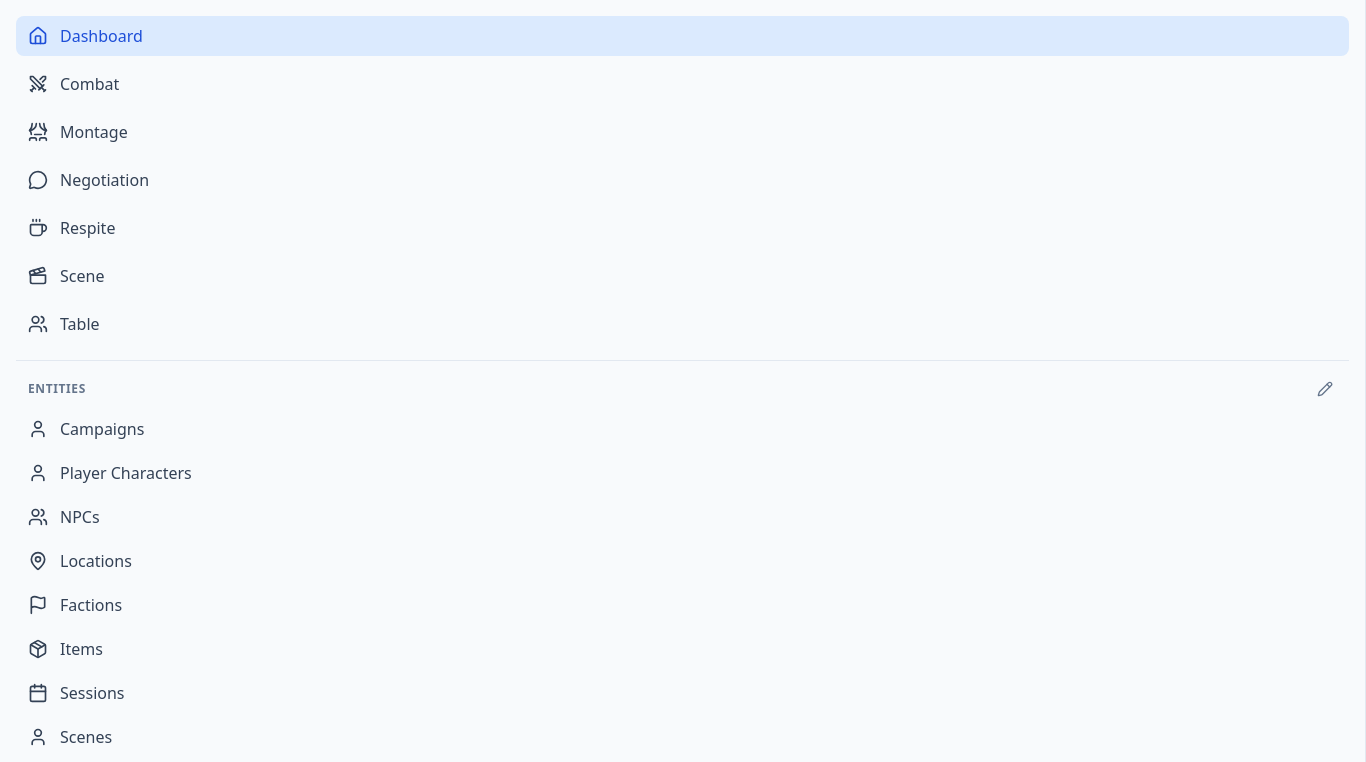
Test: Sidebar Drag and Drop (Issue #205 - RED Phase) › Edit Mode Drag and Drop UI › should exit edit mode when Done button is clicked
This screenshot has width=1366, height=762.
Click the button named "reorder entity types" at {"x": 1325, "y": 389}, box [1313,377,1337,401]
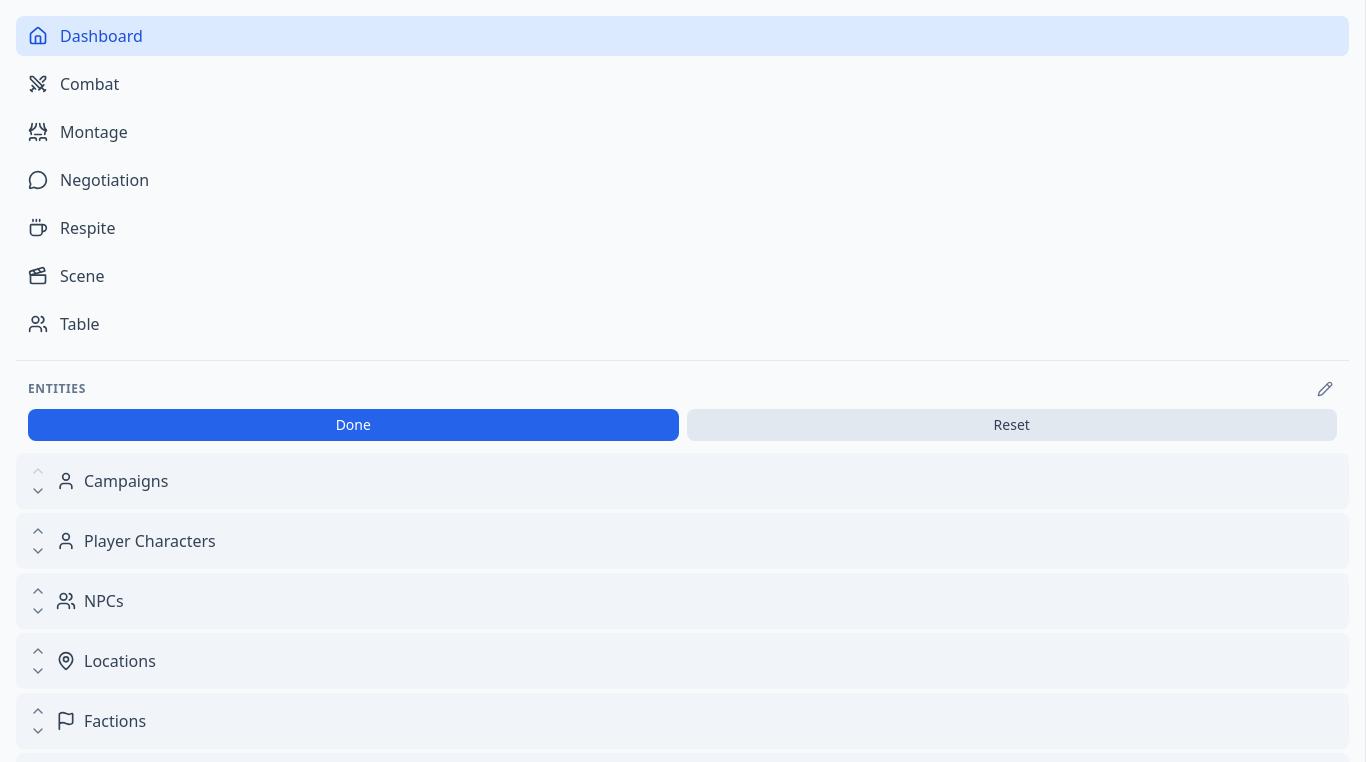
Click Done
Click the button "Done" at {"x": 353, "y": 425}, box [28,409,678,441]
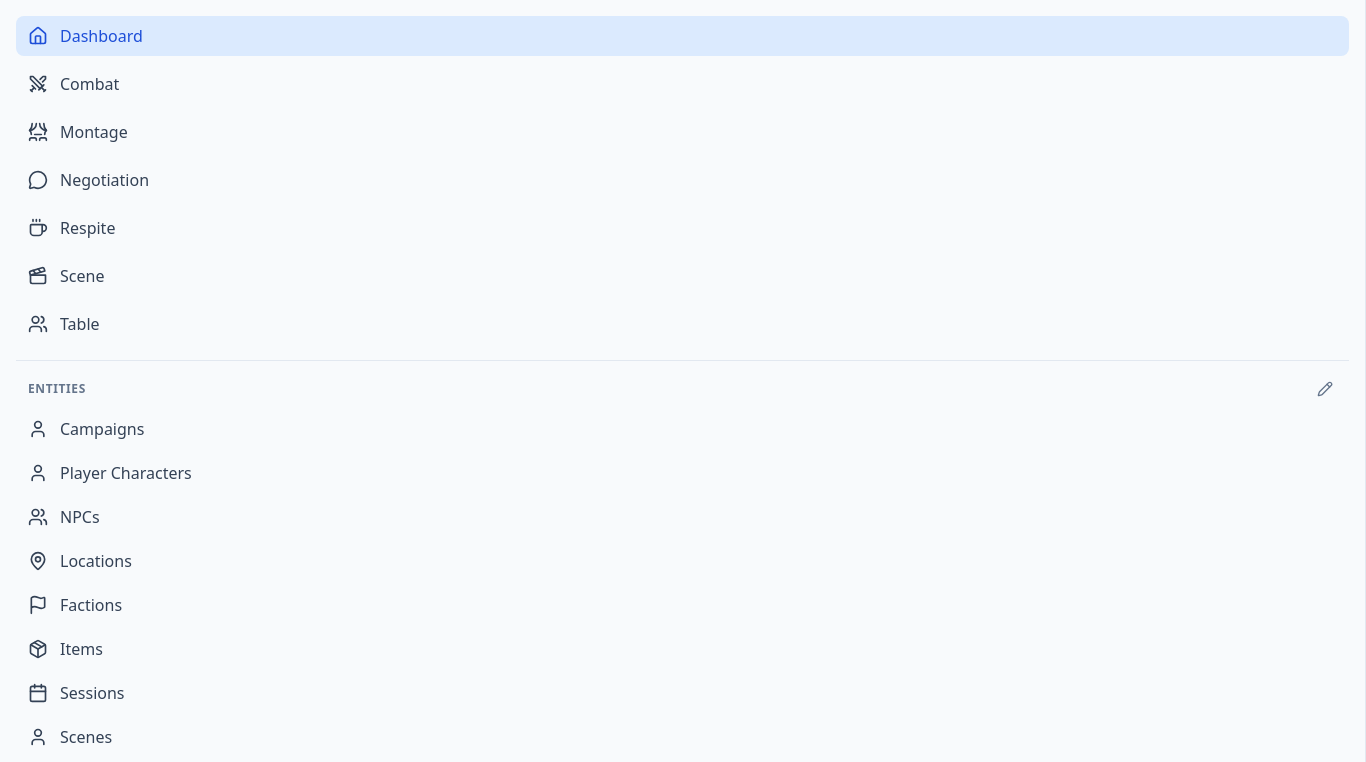
Expected: the button named "reorder entity types" is shown, [1313,377,1337,401]
Expected: the button "Done" is gone
